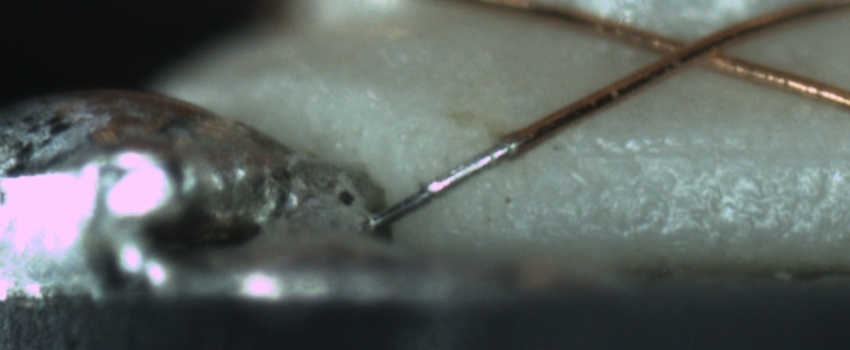CL: (646, 22, 740, 75)
DL: (534, 122, 849, 186)
TS: (369, 141, 513, 227)
